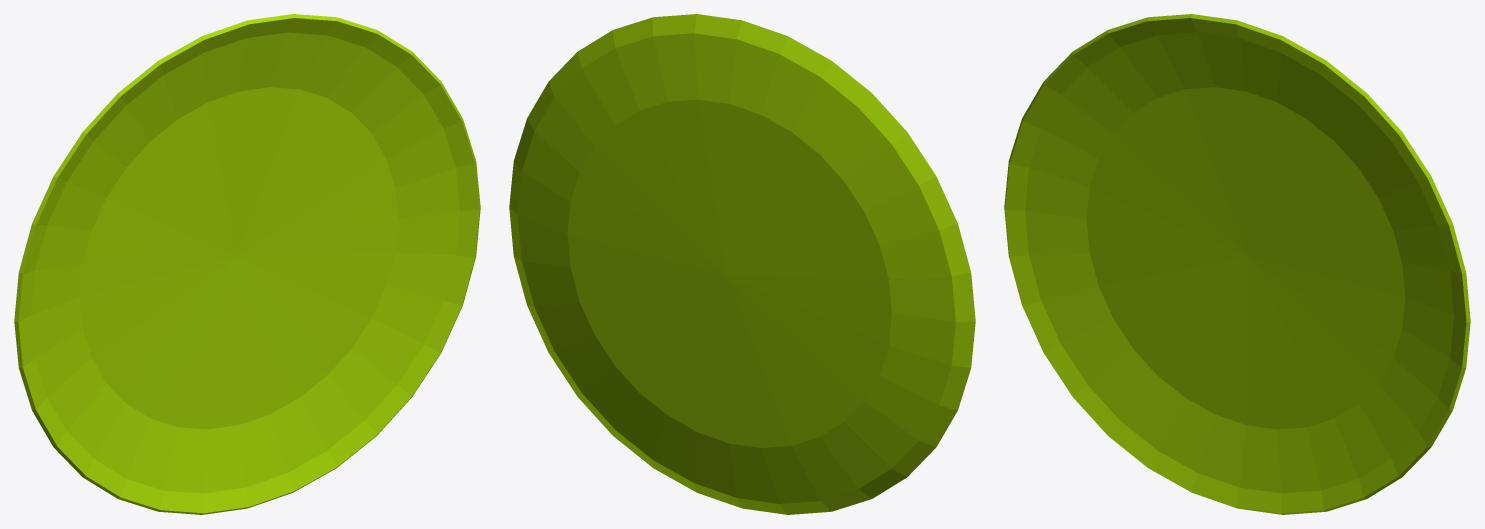
File: plate_geometry_0.obj
3 renders of one model, left to right at view 1: azimuth 30°, elevation 25°; view 2: azimuth 150°, elevation 25°; view 3: azimuth 330°, elevation 25°, orthographic.
Bounding box in the file's own units: 0.2957 × 0.2957 × 0.0185.
